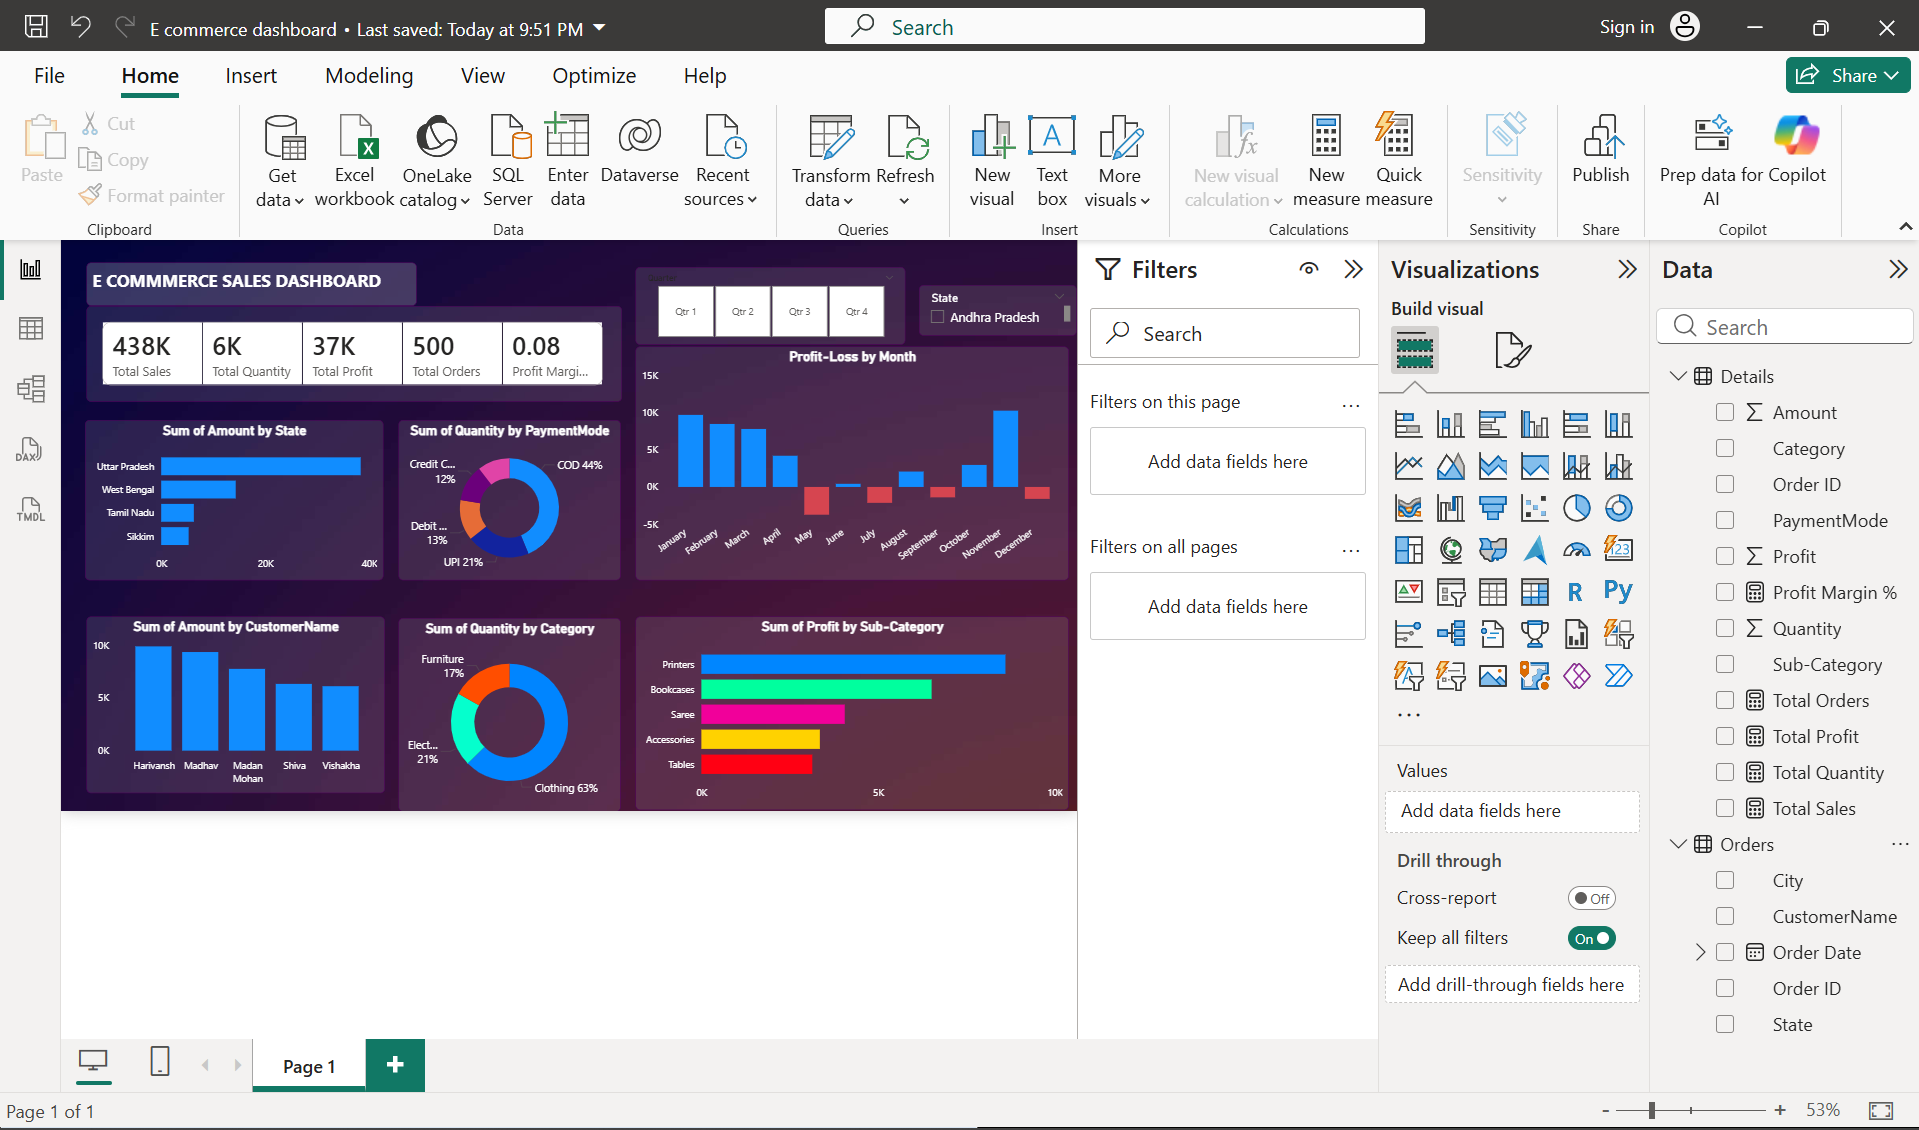

What the dashboard file says about the page in this screenshot:
{"tool":"powerbi","page":{"name":"Page 1","canvas":[1280,720],"ordinal":0},"visuals":[{"type":"textbox","box":[32.1,28.3,415.8,54.8],"z":0},{"type":"columnChart","title":"Profit-Loss by Month","fields":{"Y":["Sum(Details.Profit)"],"Category":["Orders.Order Date.Variation.Date Hierarchy.Month"]},"box":[723.8,134.2,546.1,294.8],"z":1000},{"type":"barChart","fields":{"Category":["Details.Sub-Category"],"Y":["Sum(Details.Profit)"]},"box":[723.8,474.3,546.1,243.8],"z":2000},{"type":"donutChart","fields":{"Category":["Details.Category"],"Y":["Sum(Details.Quantity)"]},"box":[425.2,476.2,279.7,243.8],"z":3000},{"type":"donutChart","fields":{"Category":["Details.PaymentMode"],"Y":["Sum(Details.Quantity)"]},"box":[425.2,226.8,279.7,202.2],"z":4000},{"type":"barChart","fields":{"Category":["Orders.State"],"Y":["Sum(Details.Amount)"]},"box":[30.2,226.8,376.1,202.2],"z":5000},{"type":"columnChart","fields":{"Category":["Orders.CustomerName"],"Y":["Sum(Details.Amount)"]},"box":[32.1,474.3,376.1,223],"z":6000},{"type":"cardVisual","fields":{"Data":["Details.Total Sales","Details.Total Quantity","Details.Total Profit","Details.Total Orders","Details.Profit Margin %"]},"box":[32.1,83.2,674.7,120.9],"z":7000},{"type":"slicer","fields":{"Values":["Orders.Order Date.Variation.Date Hierarchy.Quarter"]},"box":[723.8,34,340.2,98.3],"z":8000},{"type":"slicer","fields":{"Values":["Orders.State"]},"box":[1081,56.7,198.4,64.3],"z":9000}]}

Visuals, with their boxes on the page's 1280x720 design canvas (x1, y1, x2, y2). These are canvas units, not pixel positions in the 1919x1130 screenshot, which may show the page scaled, cropped or inside an application window:
textbox: BBox(32, 28, 448, 83)
"Profit-Loss by Month" columnChart: BBox(724, 134, 1270, 429)
barChart - Details.Sub-Category x Sum(Details.Profit): BBox(724, 474, 1270, 718)
donutChart - Details.Category x Sum(Details.Quantity): BBox(425, 476, 705, 720)
donutChart - Details.PaymentMode x Sum(Details.Quantity): BBox(425, 227, 705, 429)
barChart - Orders.State x Sum(Details.Amount): BBox(30, 227, 406, 429)
columnChart - Orders.CustomerName x Sum(Details.Amount): BBox(32, 474, 408, 697)
cardVisual - Details.Total Sales x Details.Total Quantity: BBox(32, 83, 707, 204)
slicer - Orders.Order Date.Variation.Date Hierarchy.Quarter: BBox(724, 34, 1064, 132)
slicer - Orders.State: BBox(1081, 57, 1279, 121)
